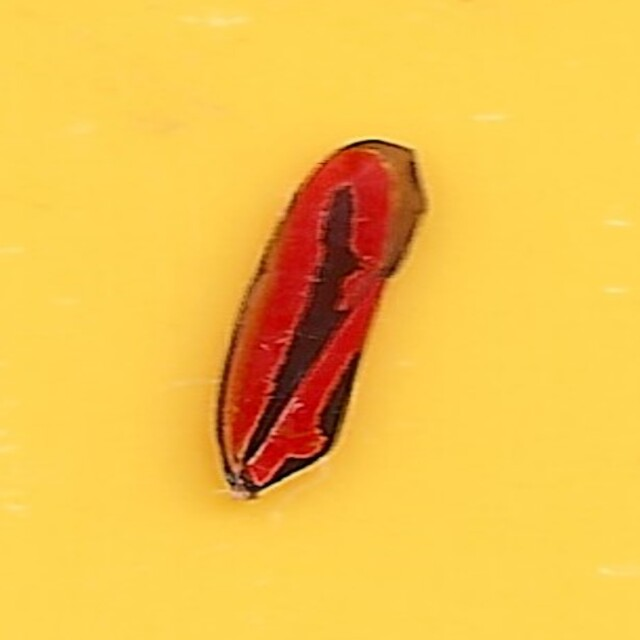Hemiptera: (210, 136, 430, 504)
